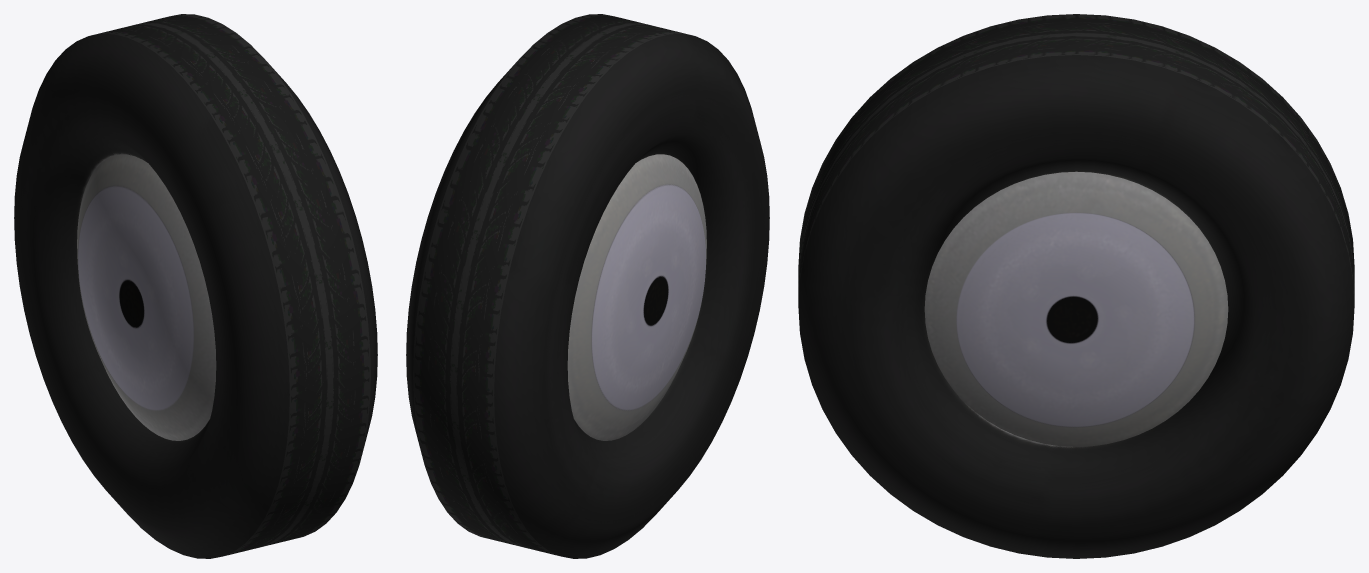
Rendered from Volga_wheel.obj.
The picture shows the model from 3 angles, left to right: view 1: azimuth 30°, elevation 25°; view 2: azimuth 150°, elevation 25°; view 3: azimuth 270°, elevation 25°; orthographic projection. The views are drawn at different scales.
Visible parts, largest first — view 1: Object_30_Object_20; view 2: Object_30_Object_20; view 3: Object_30_Object_20.
Boxes of the visible parts, left/top/right/bottom form: Object_30_Object_20: left=14, top=14, right=377, bottom=558; Object_30_Object_20: left=406, top=14, right=769, bottom=558; Object_30_Object_20: left=798, top=14, right=1354, bottom=558.
Size of the model in its own units: 0.5677 by 2 by 2.
2 materials, 2 textured.
